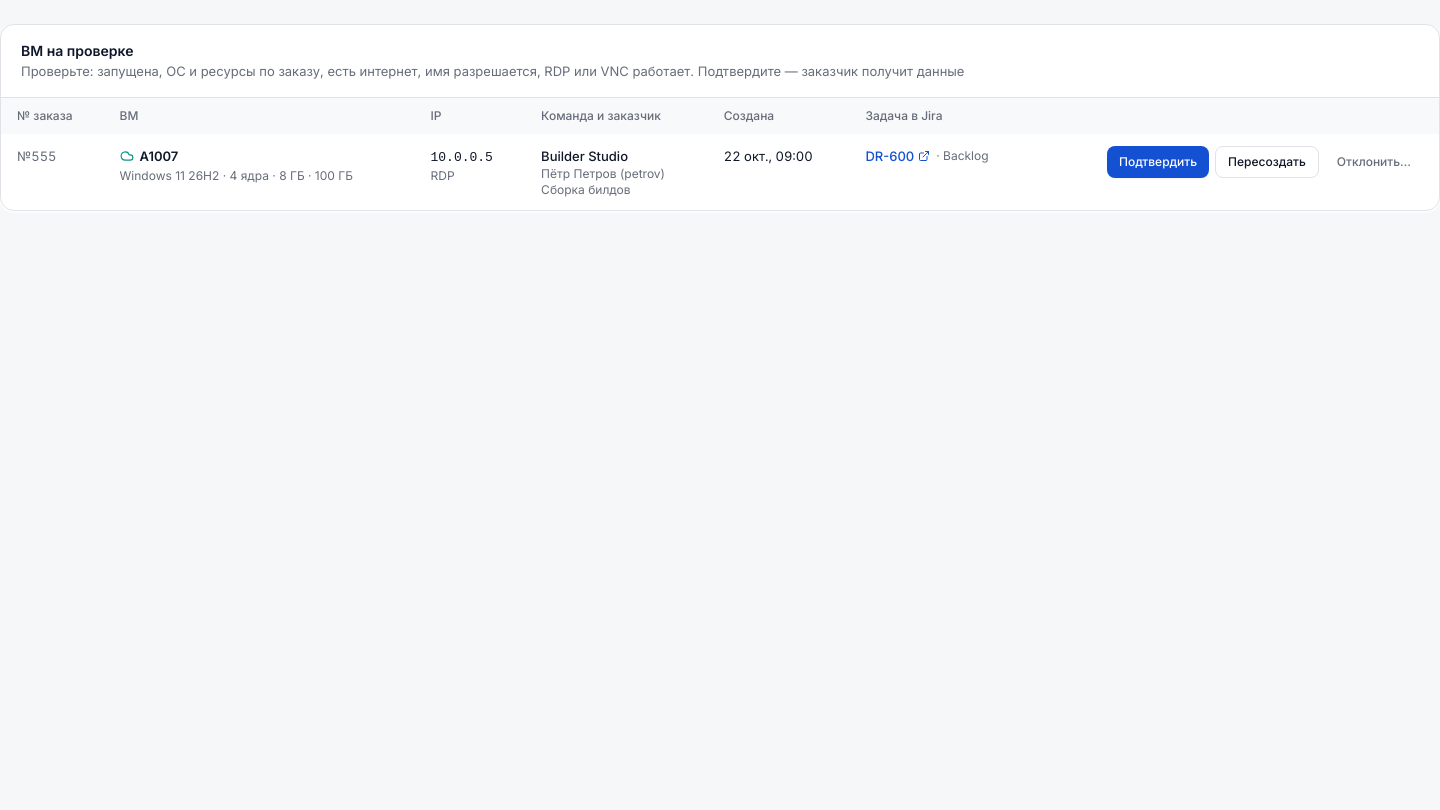
Scenario: VmChecksCard › «Пересоздать» идёт через подтверждение
Click the button "Пересоздать": (1267, 162) [1215,146,1319,178]
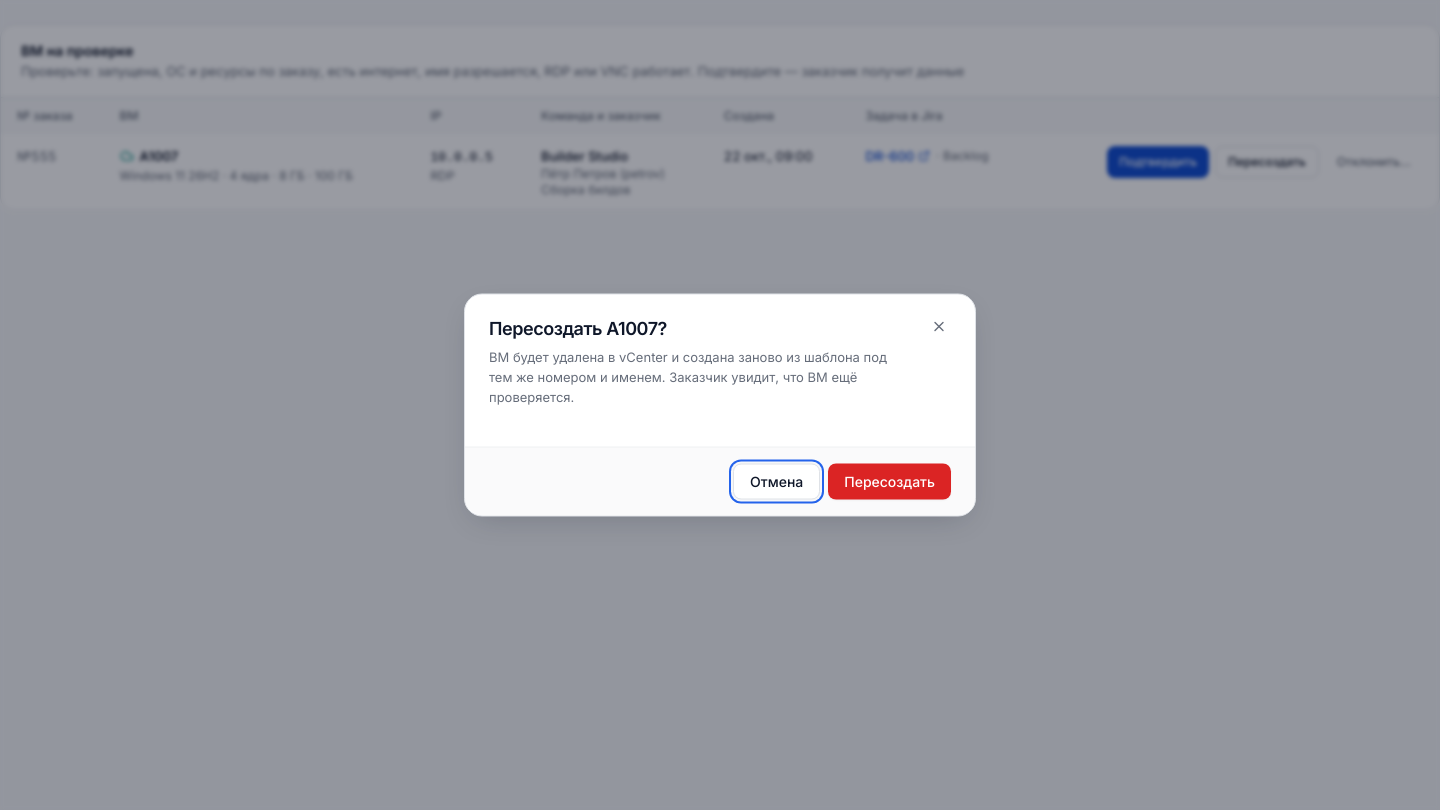
Click the button "Пересоздать": (890, 482) [828,464,951,500]
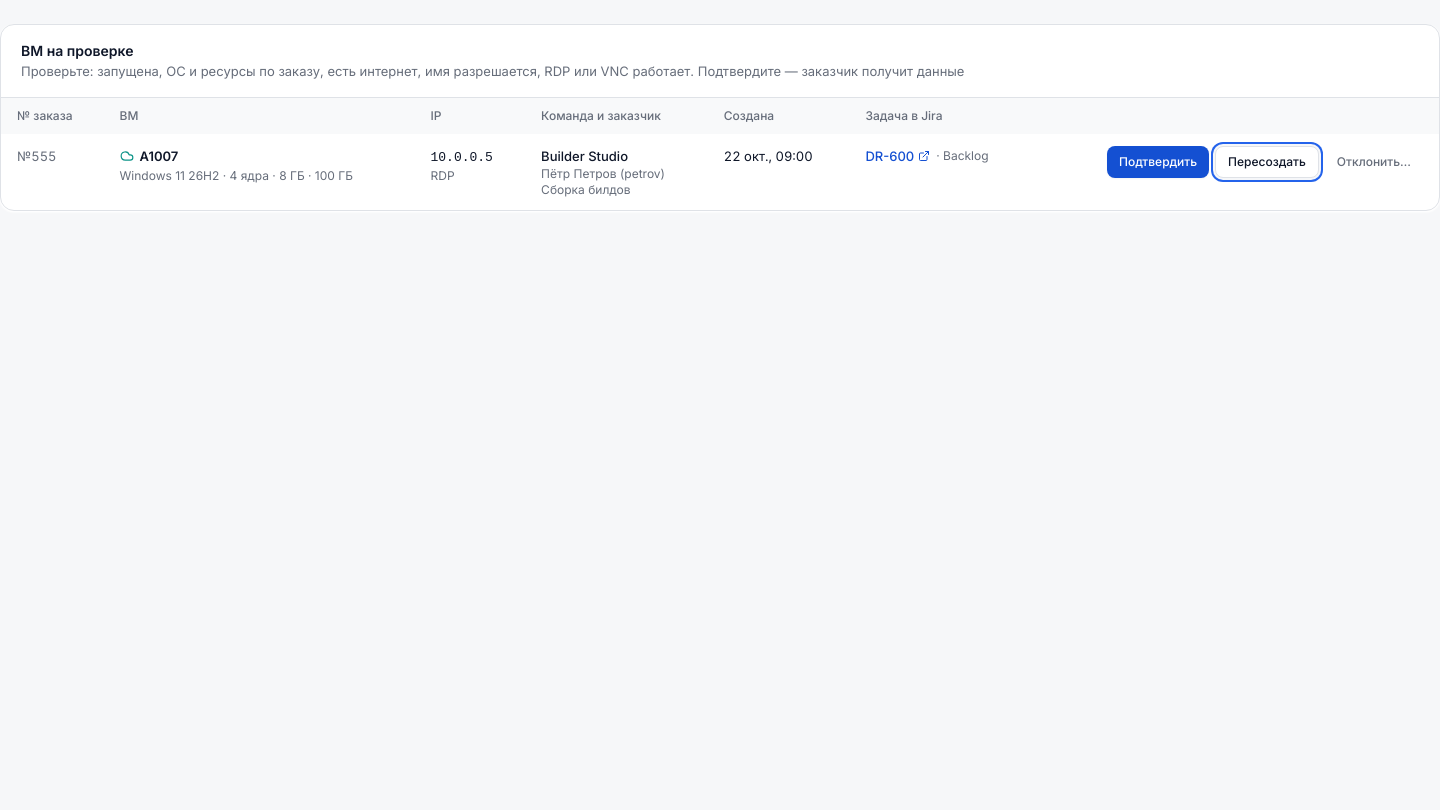
Result: the dialog is gone
